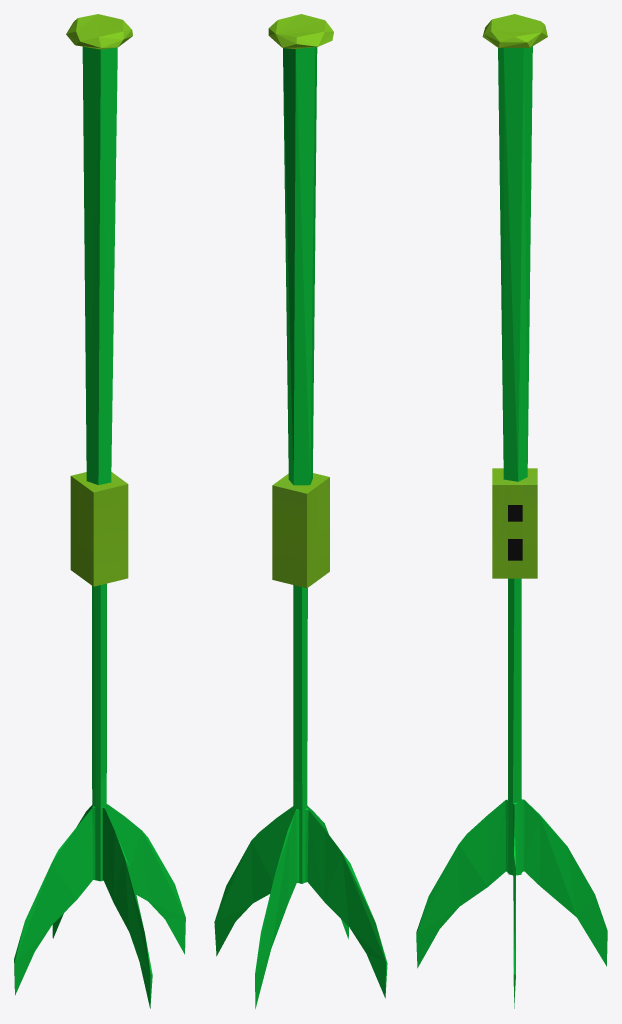
File: ZepsutaDzidaLaserowa1.fbx
3 renders of one model, left to right at view 1: azimuth 30°, elevation 25°; view 2: azimuth 150°, elevation 25°; view 3: azimuth 270°, elevation 25°, orthographic.
Parts seen in each view (by area): view 1: ZepsutaDzidaLaserowa.copy2; view 2: ZepsutaDzidaLaserowa.copy2; view 3: ZepsutaDzidaLaserowa.copy2.
Part boxes in pixels (box(x1,y1,x2,y2)): ZepsutaDzidaLaserowa.copy2: box(14, 14, 185, 1008); ZepsutaDzidaLaserowa.copy2: box(214, 14, 387, 1008); ZepsutaDzidaLaserowa.copy2: box(416, 14, 607, 1008).
Bounding box in the file's own units: 22.72 × 123 × 23.32.
